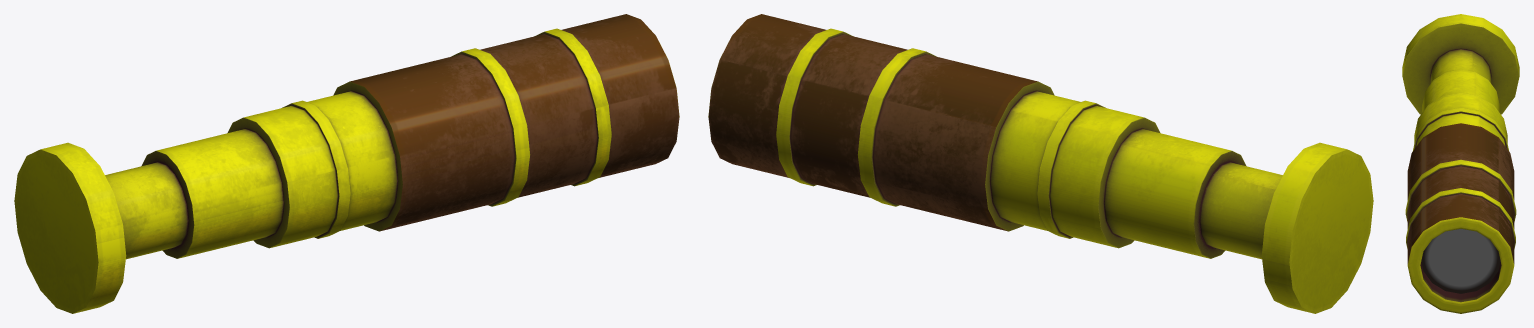
File: Spyglass_01.fbx
The picture shows the model from 3 angles, left to right: view 1: azimuth 30°, elevation 25°; view 2: azimuth 150°, elevation 25°; view 3: azimuth 270°, elevation 25°; orthographic projection. The views are drawn at different scales.
Visible parts, largest first — view 1: Spyglass_01; view 2: Spyglass_01; view 3: Spyglass_01.
Part boxes in pixels (box(x1,y1,x2,y2)): Spyglass_01: box(14, 14, 679, 313); Spyglass_01: box(708, 14, 1373, 313); Spyglass_01: box(1402, 14, 1519, 313).
Bounding box in the file's own units: 19.49 × 4.85 × 4.85.
Materials: 3 (3 with a texture image).
